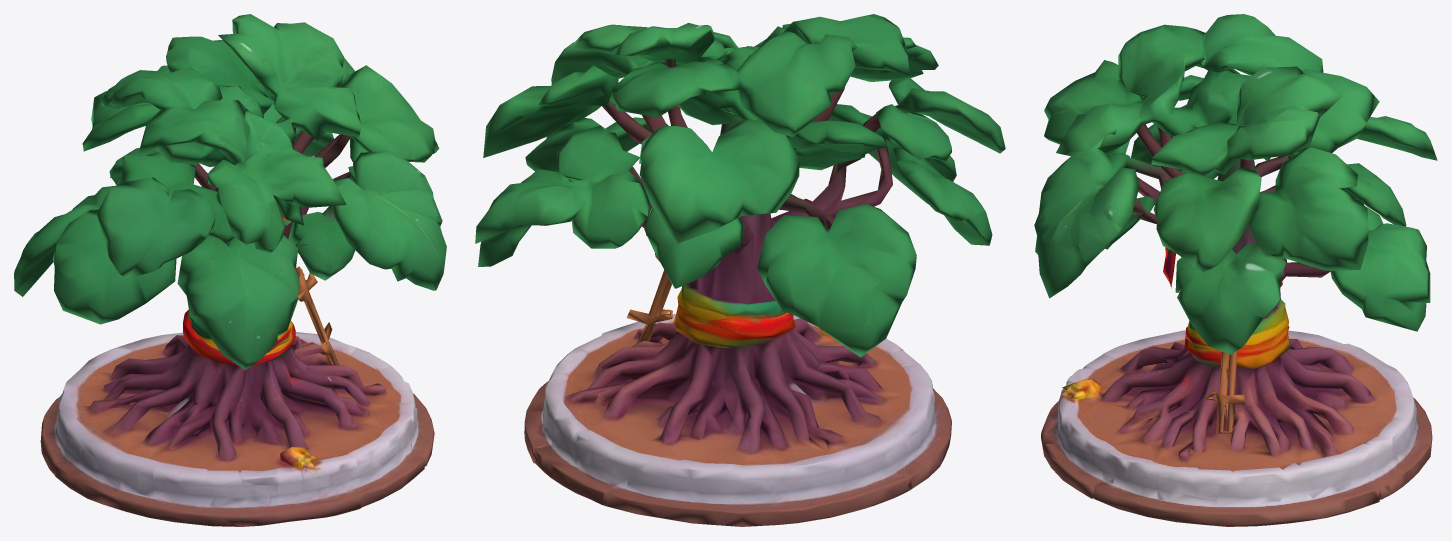
Rendered from bodhi.glb.
The picture shows the model from 3 angles, left to right: view 1: azimuth 30°, elevation 25°; view 2: azimuth 150°, elevation 25°; view 3: azimuth 270°, elevation 25°; orthographic projection. The views are drawn at different scales.
Parts seen in each view (by area): view 1: tripo_node_220d552f-c742-4c26-848f-11b72e8eb194; view 2: tripo_node_220d552f-c742-4c26-848f-11b72e8eb194; view 3: tripo_node_220d552f-c742-4c26-848f-11b72e8eb194.
Part boxes in pixels (x1=…): tripo_node_220d552f-c742-4c26-848f-11b72e8eb194: x1=14, y1=14, x2=446, y2=526; tripo_node_220d552f-c742-4c26-848f-11b72e8eb194: x1=475, y1=14, x2=1005, y2=526; tripo_node_220d552f-c742-4c26-848f-11b72e8eb194: x1=1034, y1=14, x2=1437, y2=526.
Size of the model in its own units: 1 by 0.9603 by 0.8998.
Materials: 1 (1 with a texture image).
